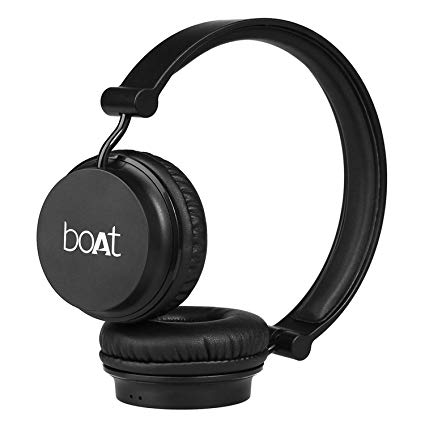Headphone: (31, 14, 392, 416)
